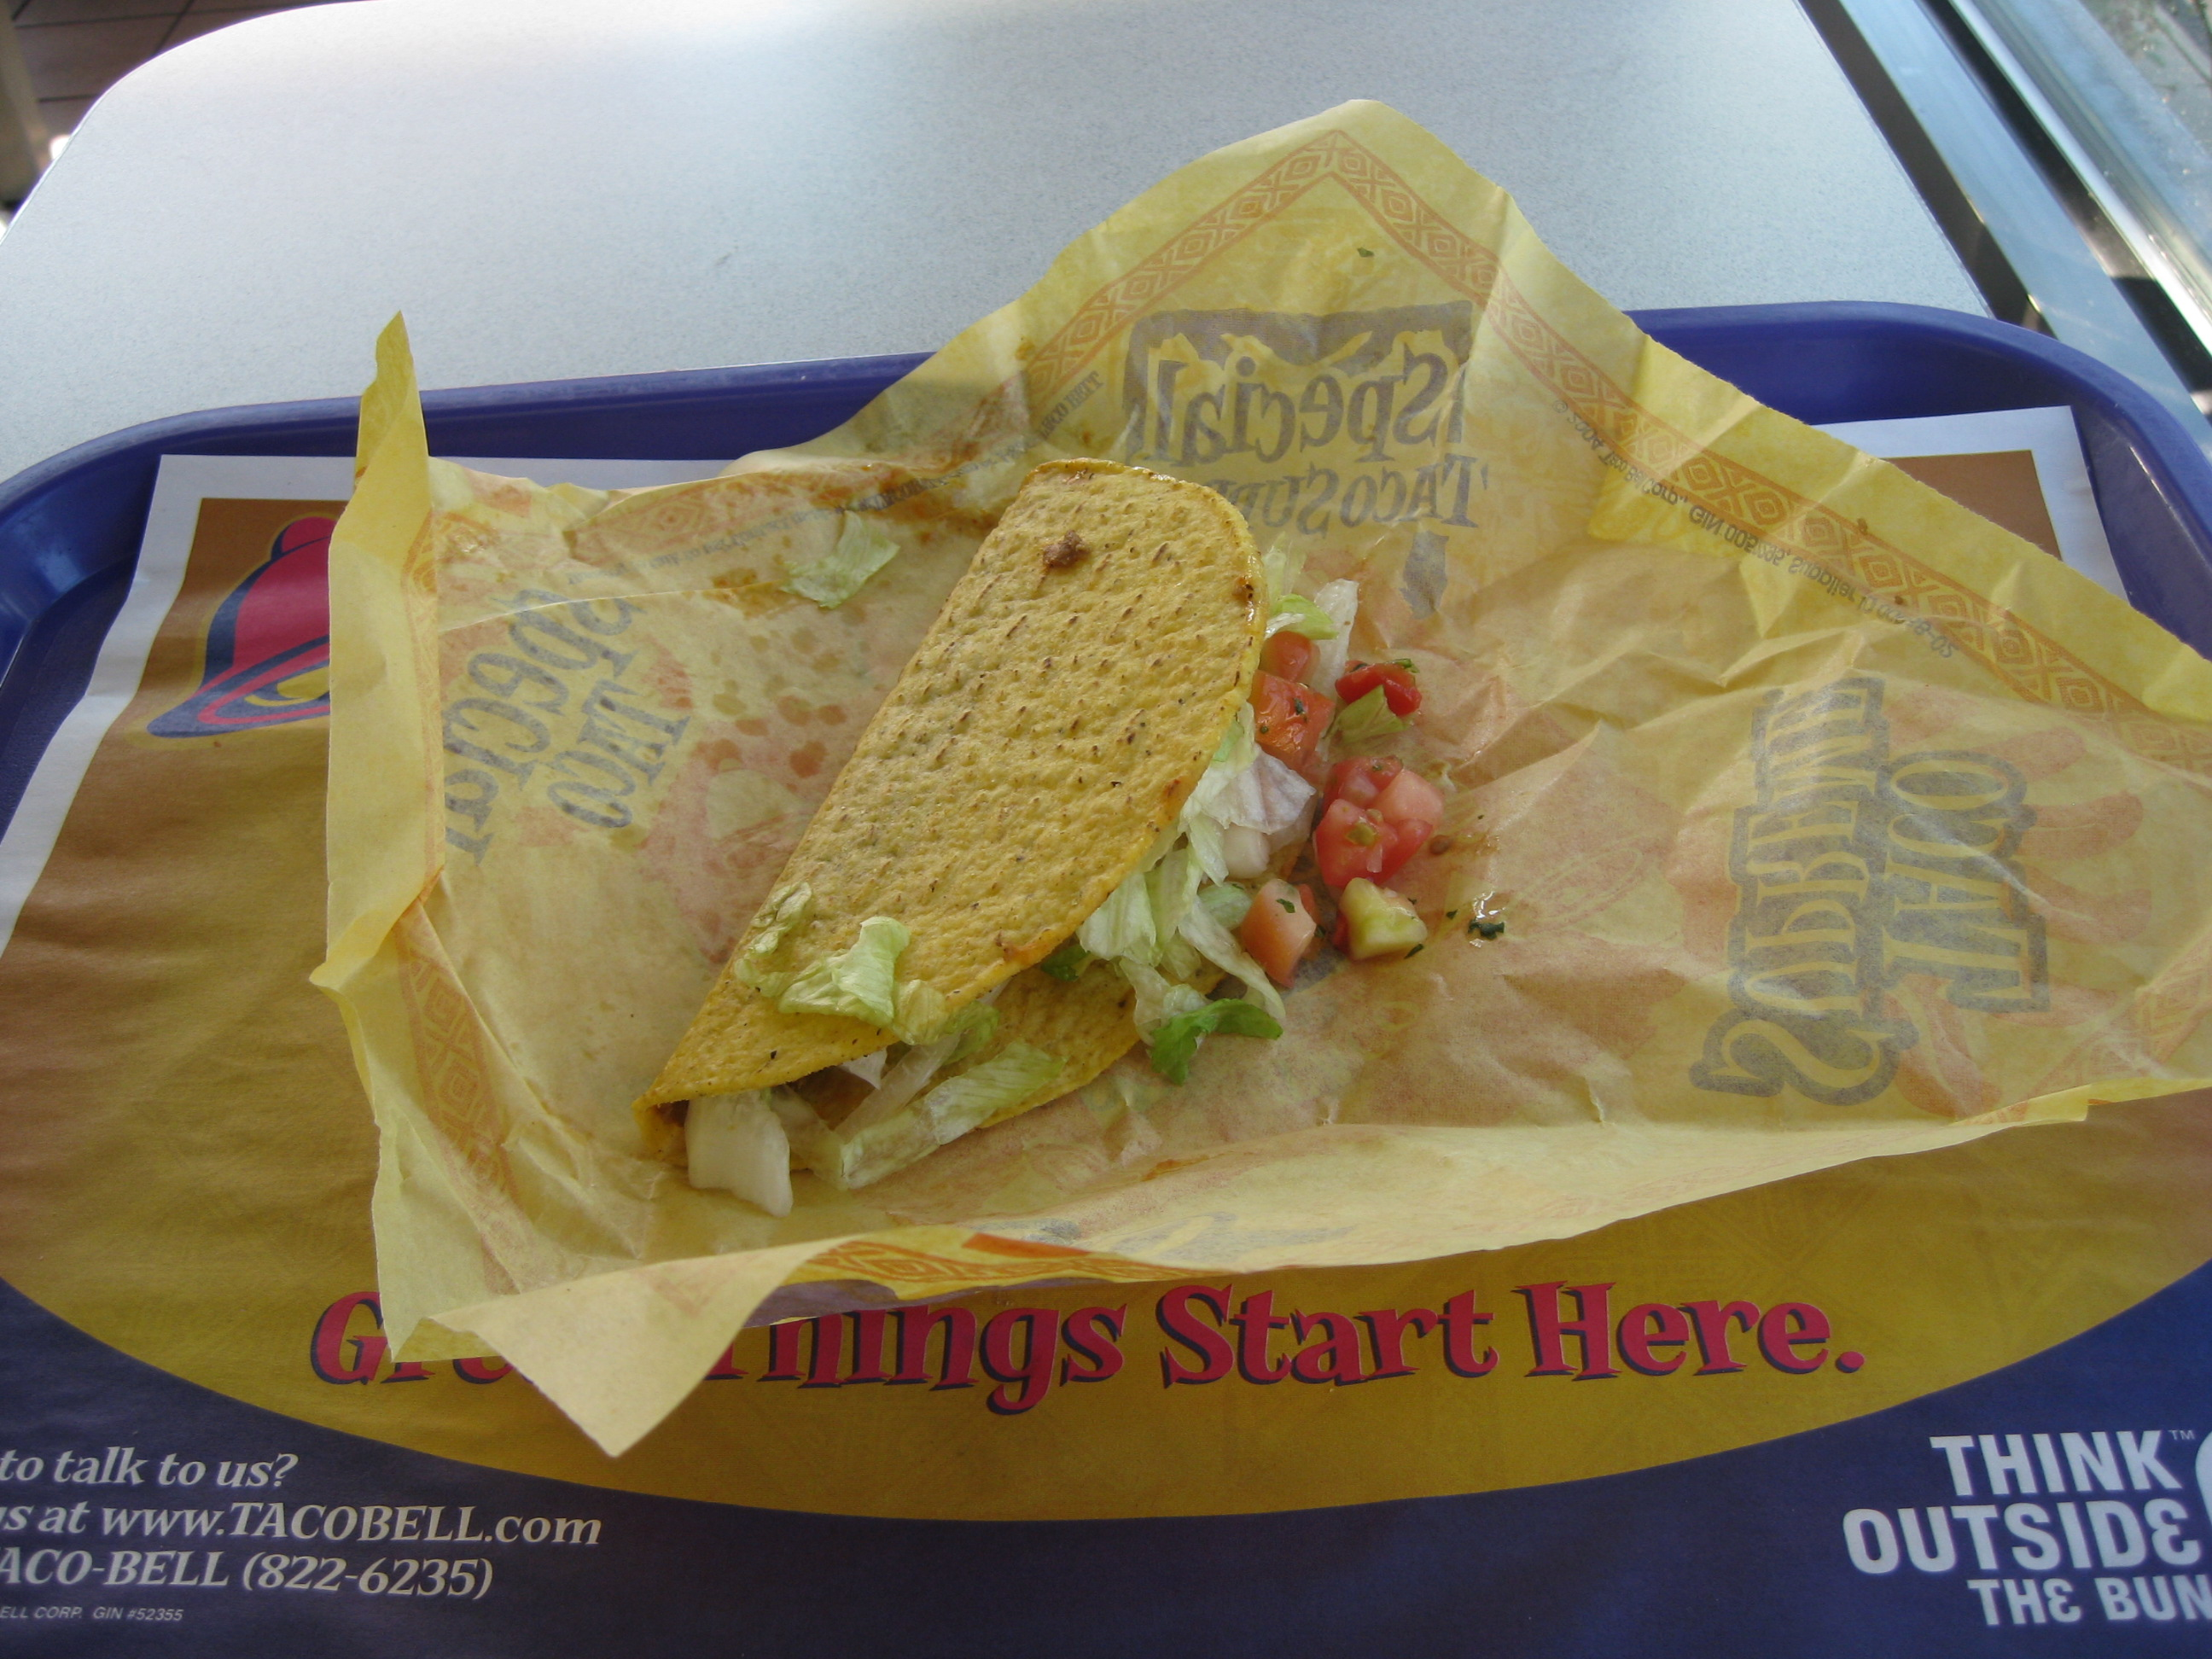taco: (643, 450, 1467, 1201)
